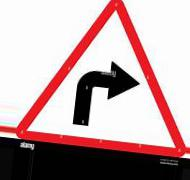right: (15, 1, 187, 156)
